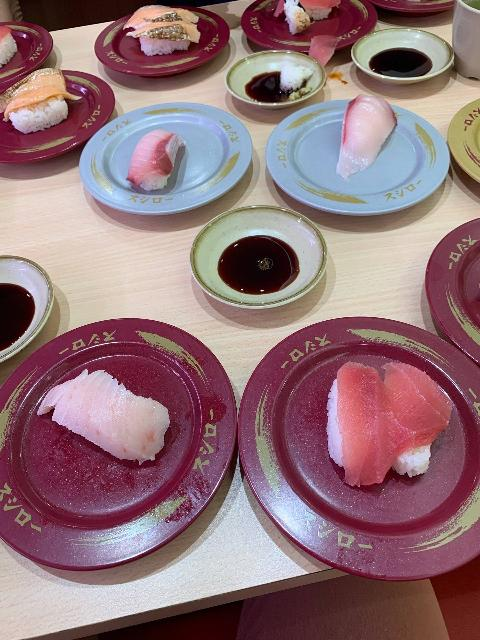jangold: (433, 96, 480, 197)
janred: (252, 326, 469, 535), (32, 332, 207, 556), (0, 74, 104, 153), (109, 26, 239, 79), (442, 202, 480, 361), (248, 0, 358, 49), (0, 19, 59, 80), (381, 0, 465, 30)
janwhite: (240, 89, 441, 206), (92, 113, 243, 212)
